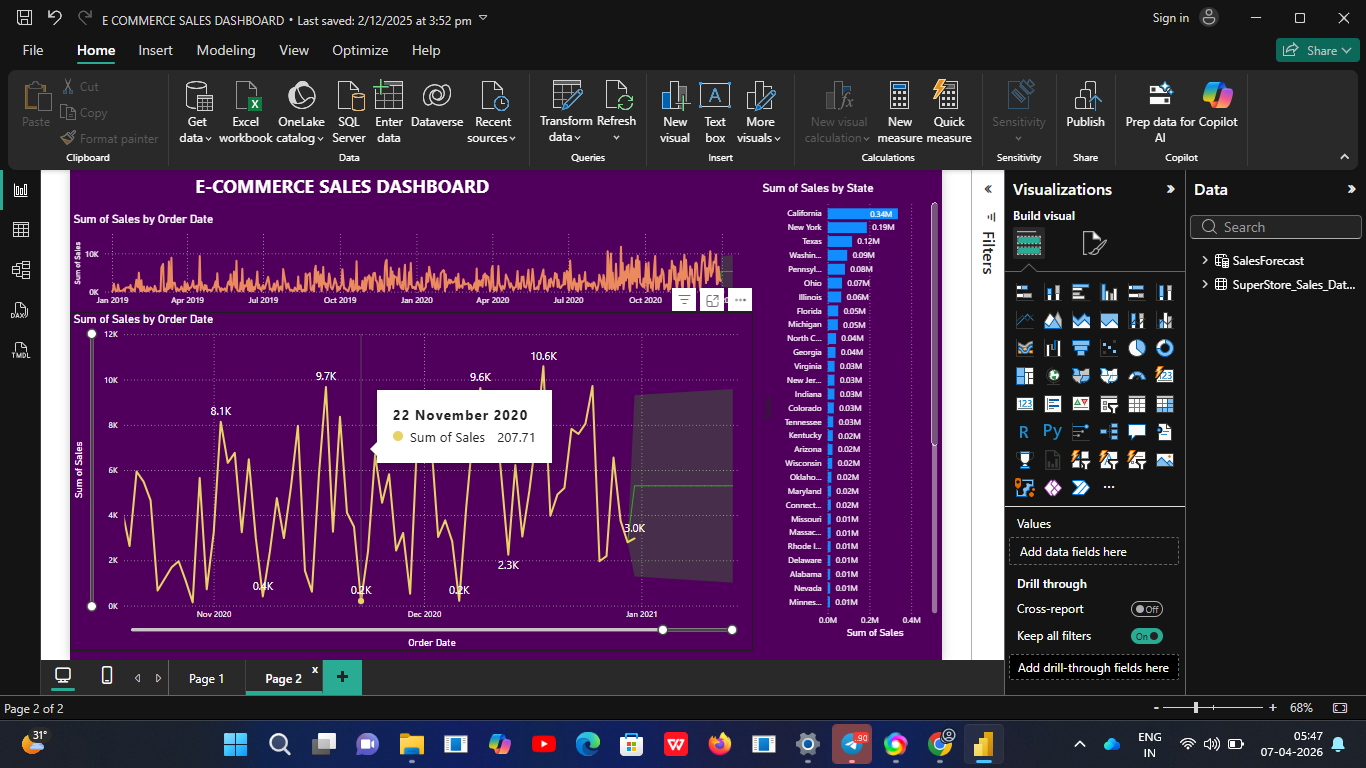

The dashboard page shown, as its layout file describes it:
{"tool":"powerbi","page":{"name":"Page 2","canvas":[1280,720],"ordinal":1},"visuals":[{"type":"lineChart","fields":{"Y":["Sum(SuperStore_Sales_Dataset (2).Sales)"],"Category":["SuperStore_Sales_Dataset (2).Order Date"]},"box":[0,61.4,1002.9,147.1],"z":0},{"type":"lineChart","fields":{"Y":["Sum(SuperStore_Sales_Dataset (2).Sales)"],"Category":["SuperStore_Sales_Dataset (2).Order Date"]},"box":[0,208.6,1002.9,498.6],"z":1},{"type":"clusteredBarChart","fields":{"Category":["SuperStore_Sales_Dataset (2).State"],"Y":["Sum(SuperStore_Sales_Dataset (2).Sales)"]},"box":[1012.9,15.7,267.1,677.1],"z":2},{"type":"textbox","box":[0,0,800,61.4],"z":3}]}

Visuals, with their boxes on the page's 1280x720 design canvas (x1, y1, x2, y2). These are canvas units, not pixel positions in the 1366x768 screenshot, which may show the page scaled, cropped or inside an application window:
lineChart - Sum(SuperStore_Sales_Dataset (2).Sales) x SuperStore_Sales_Dataset (2).Order Date: x1=0, y1=61, x2=1003, y2=208
lineChart - Sum(SuperStore_Sales_Dataset (2).Sales) x SuperStore_Sales_Dataset (2).Order Date: x1=0, y1=209, x2=1003, y2=707
clusteredBarChart - SuperStore_Sales_Dataset (2).State x Sum(SuperStore_Sales_Dataset (2).Sales): x1=1013, y1=16, x2=1280, y2=693
textbox: x1=0, y1=0, x2=800, y2=61
